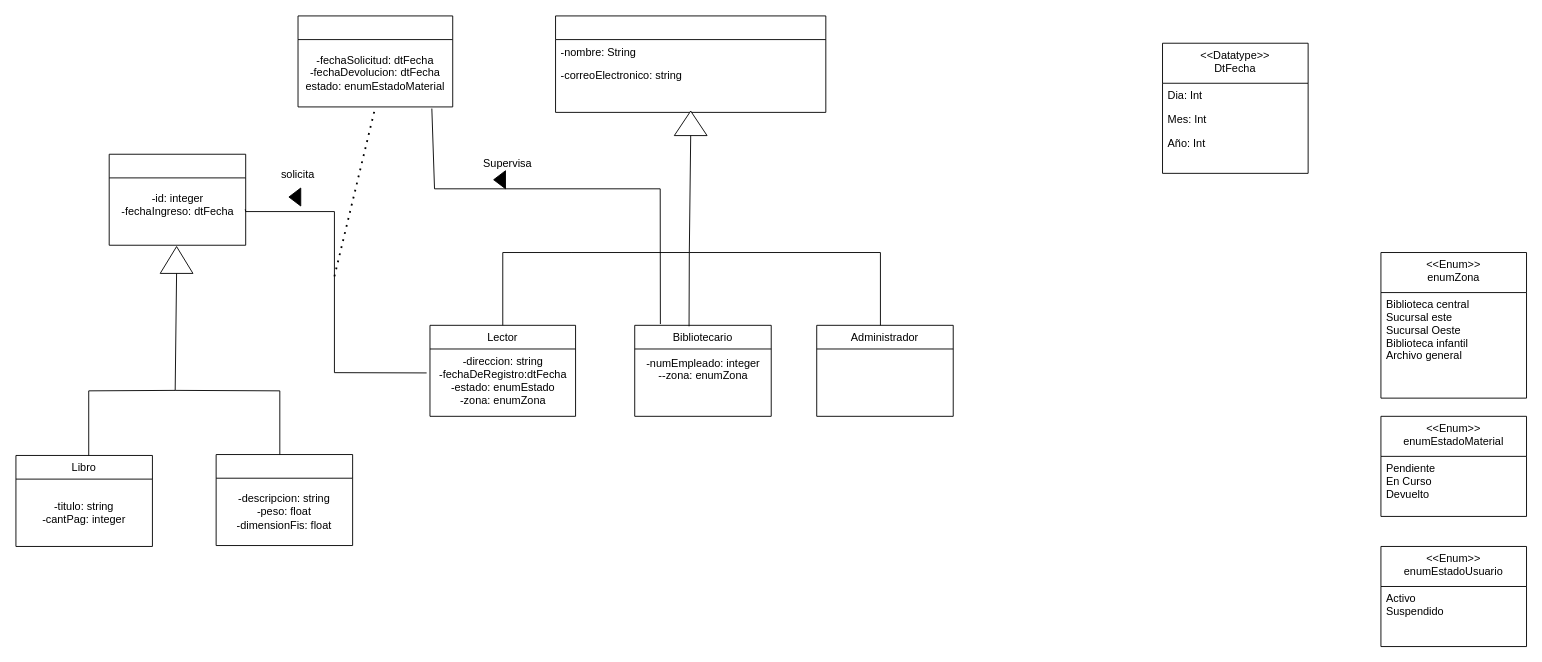
Some shapes in this 1542 by 662 pixel diagram are drawn without their labels. Each missing label, with the box of its shape:
ArticuloEspecial: (215, 454, 353, 546)
Material: (108, 153, 246, 245)
Prestamo: (297, 15, 453, 107)
Usuario: (555, 15, 826, 112)
